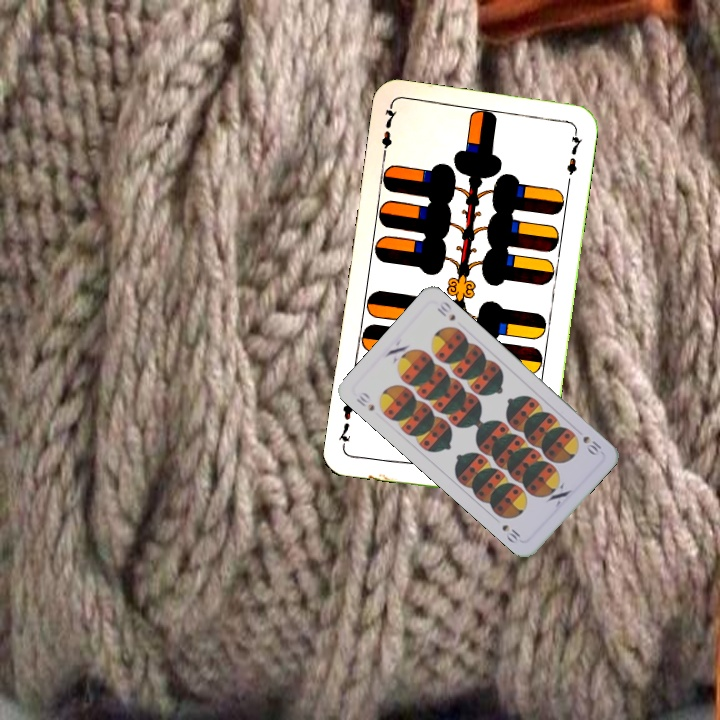E7: (377, 103, 399, 162)
S10: (352, 388, 377, 414), (579, 432, 604, 457)
